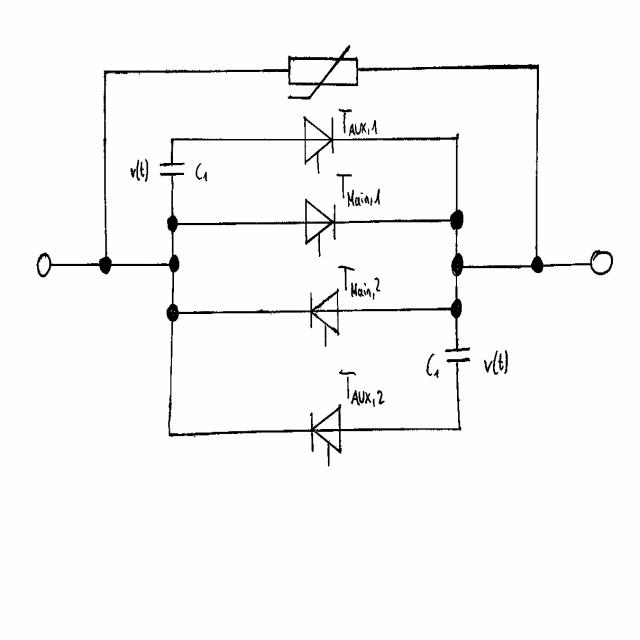capacitor: (444, 346, 473, 366), (158, 159, 187, 179)
junction: (450, 252, 464, 277), (450, 209, 464, 231), (98, 255, 113, 275), (530, 254, 545, 274), (450, 298, 463, 320), (166, 303, 180, 322), (166, 214, 179, 234), (168, 253, 180, 274), (169, 135, 177, 146), (454, 132, 461, 143), (456, 423, 463, 433), (102, 68, 109, 76), (534, 63, 541, 71), (167, 430, 173, 439)
terminal: (589, 248, 615, 277), (35, 252, 56, 279)
text: (338, 369, 386, 408), (335, 172, 382, 208), (337, 264, 381, 301), (337, 107, 378, 137), (483, 349, 509, 377), (130, 158, 150, 183), (425, 352, 440, 379), (195, 162, 209, 183)
thyristor: (308, 403, 344, 476), (303, 196, 338, 263), (301, 113, 337, 178), (308, 286, 341, 355)
